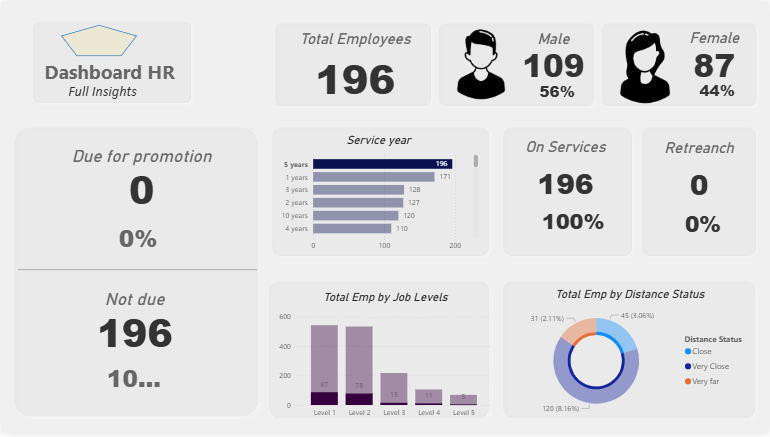

This screenshot's page, from the dashboard's own definition file:
{"tool":"powerbi","page":{"name":"Page 1","canvas":[1280,720],"ordinal":0},"visuals":[{"type":"shape","box":[44.6,24.5,280.8,154.1],"z":0},{"type":"shape","box":[448.6,28.6,277.1,155.7],"z":1000},{"type":"shape","box":[721.4,28.6,275.7,155.7],"z":2000},{"type":"shape","box":[1060.1,202,207.4,232.4],"z":3000},{"type":"shape","box":[14,202,424,500],"z":4000},{"type":"shape","box":[443.4,202,379,232.4],"z":5000},{"type":"shape","box":[438,458,384,246],"z":6000},{"type":"shape","box":[827.7,202,232.4,232.4],"z":7000},{"type":"shape","box":[992.9,28.6,274.3,155.7],"z":8000},{"type":"textbox","box":[23,89.3,342.7,56.2],"z":9000},{"type":"textbox","box":[53.3,129.6,231.8,53.3],"z":10000},{"type":"card","title":"Total Employees","fields":{"Values":["all Measures.Total Emp"]},"box":[458,48,264,124],"z":11000},{"type":"card","title":"Male","fields":{"Values":["all Measures.Male"]},"box":[862,48,118,84],"z":12000},{"type":"card","title":"Male","fields":{"Values":["all Measures.% male"]},"box":[862.9,104.3,127.1,92.9],"z":13000},{"type":"card","title":"Female","fields":{"Values":["all Measures.Female"]},"box":[1130,46,118,86],"z":14000},{"type":"card","title":"Male","fields":{"Values":["all Measures.% female"]},"box":[1130,102.9,127.1,92.9],"z":15000},{"type":"image","box":[721.4,24.3,157.1,160],"z":16000},{"type":"image","box":[990,28.6,167.1,162.9],"z":17000},{"type":"card","title":"Due for promotion","fields":{"Values":["all Measures.Due for promotion"]},"box":[98,242,272,106],"z":18000},{"type":"card","title":"Male","fields":{"Values":["all Measures.% due for promotion"]},"box":[158,348,140,92],"z":19000},{"type":"card","title":"Not due","fields":{"Values":["all Measures.not due"]},"box":[86,480,272,104],"z":20000},{"type":"card","title":"Male","fields":{"Values":["all Measures.% Not due"]},"box":[160,582,124,94],"z":21000},{"type":"shape","box":[28,296,398,302],"z":22000},{"type":"clusteredBarChart","title":"Service year","fields":{"Category":["HR Analytics Data.Service year"],"Y":["all Measures.Total Emp"]},"box":[458,220,342,206],"z":23000},{"type":"columnChart","fields":{"Category":["HR Analytics Data.Job Levels"],"Y":["all Measures.Total Emp"]},"box":[457.7,480.9,364.7,221.7],"z":24000},{"type":"card","title":"On Services","fields":{"Values":["all Measures.on service"]},"box":[867,228.8,148.4,118],"z":25000},{"type":"card","title":"Male","fields":{"Values":["all Measures.% on service"]},"box":[879.6,327.2,146.6,80.4],"z":26000},{"type":"card","title":"Retreanch","fields":{"Values":["all Measures.Will be retreanched"]},"box":[1088.7,230.6,150.2,118],"z":27000},{"type":"card","title":"Male","fields":{"Values":["all Measures.% Will be retreanched"]},"box":[1092.3,327.2,155.5,87.6],"z":28000},{"type":"shape","box":[828,458,438,246],"z":29000},{"type":"donutChart","fields":{"Category":["HR Analytics Data.Distance Status"],"Y":["all Measures.Total Emp"]},"box":[840,476,416,224],"z":30000},{"type":"shape","box":[100.8,40.3,126.7,51.8],"z":31000}]}

Visuals, with their boxes in screenshot pixels (x1, y1, x2, y2), scaled from the page's 1280x720 canvas onto the 770x437 screenshot:
shape: crop(27, 15, 196, 108)
shape: crop(270, 17, 437, 112)
shape: crop(434, 17, 600, 112)
shape: crop(638, 123, 762, 264)
shape: crop(8, 123, 263, 426)
shape: crop(267, 123, 495, 264)
shape: crop(263, 278, 494, 427)
shape: crop(498, 123, 638, 264)
shape: crop(597, 17, 762, 112)
textbox: crop(14, 54, 220, 88)
textbox: crop(32, 79, 172, 111)
"Total Employees" card: crop(276, 29, 434, 104)
"Male" card: crop(519, 29, 590, 80)
"Male" card: crop(519, 63, 596, 120)
"Female" card: crop(680, 28, 751, 80)
"Male" card: crop(680, 62, 756, 119)
image: crop(434, 15, 528, 112)
image: crop(596, 17, 696, 116)
"Due for promotion" card: crop(59, 147, 223, 211)
"Male" card: crop(95, 211, 179, 267)
"Not due" card: crop(52, 291, 215, 354)
"Male" card: crop(96, 353, 171, 410)
shape: crop(17, 180, 256, 363)
"Service year" clusteredBarChart: crop(276, 134, 481, 259)
columnChart - HR Analytics Data.Job Levels x all Measures.Total Emp: crop(275, 292, 495, 426)
"On Services" card: crop(522, 139, 611, 210)
"Male" card: crop(529, 199, 617, 247)
"Retreanch" card: crop(655, 140, 745, 212)
"Male" card: crop(657, 199, 751, 252)
shape: crop(498, 278, 762, 427)
donutChart - HR Analytics Data.Distance Status x all Measures.Total Emp: crop(505, 289, 756, 425)
shape: crop(61, 24, 137, 56)
